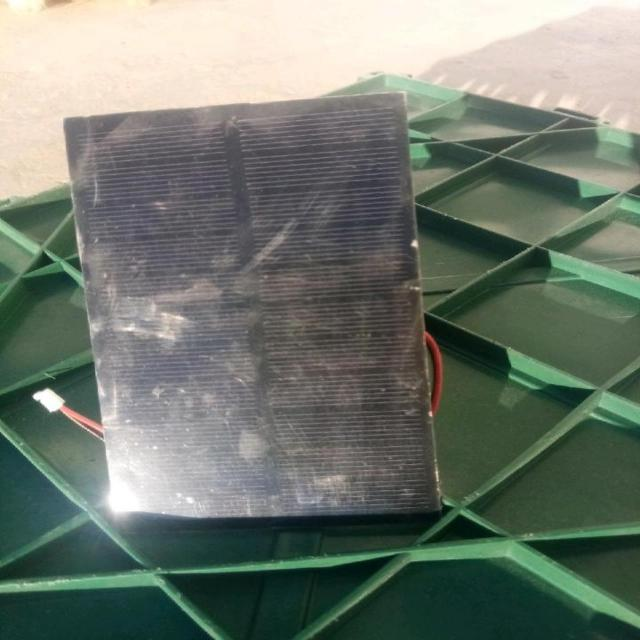faulty: (80, 115, 436, 523)
